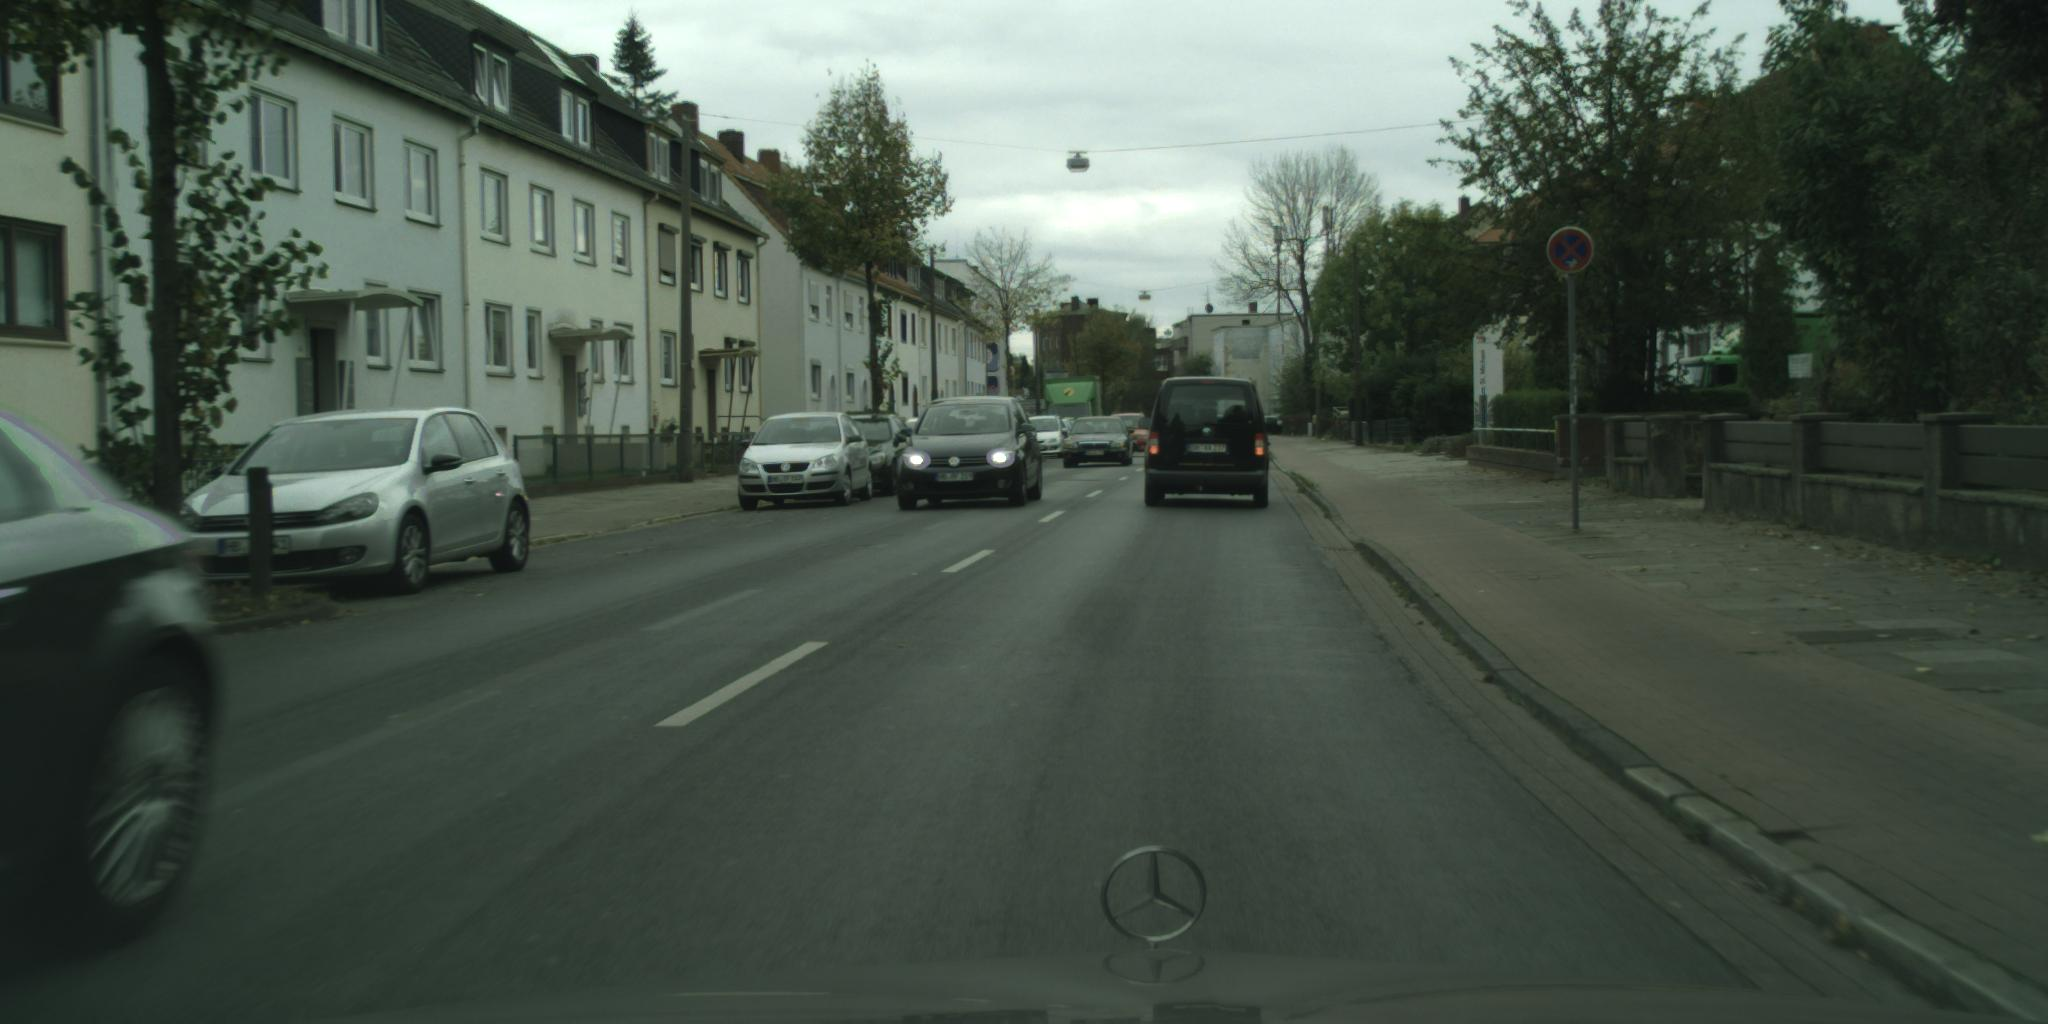car: (1, 408, 227, 986), (174, 408, 533, 597), (1139, 377, 1280, 509), (896, 394, 1044, 512), (738, 411, 876, 508), (1062, 418, 1136, 469), (1108, 411, 1152, 453)
truck: (1674, 316, 1857, 401), (1046, 377, 1104, 426)
